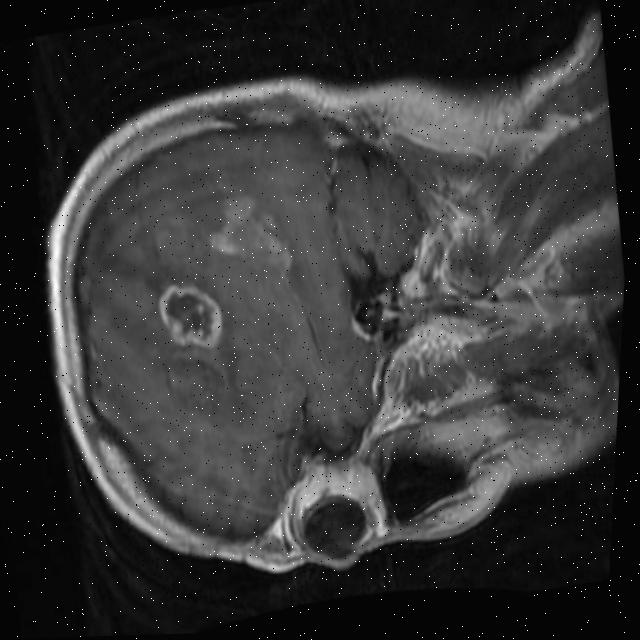Glioma: (201, 184, 300, 282), (151, 276, 228, 358), (160, 351, 229, 419)
